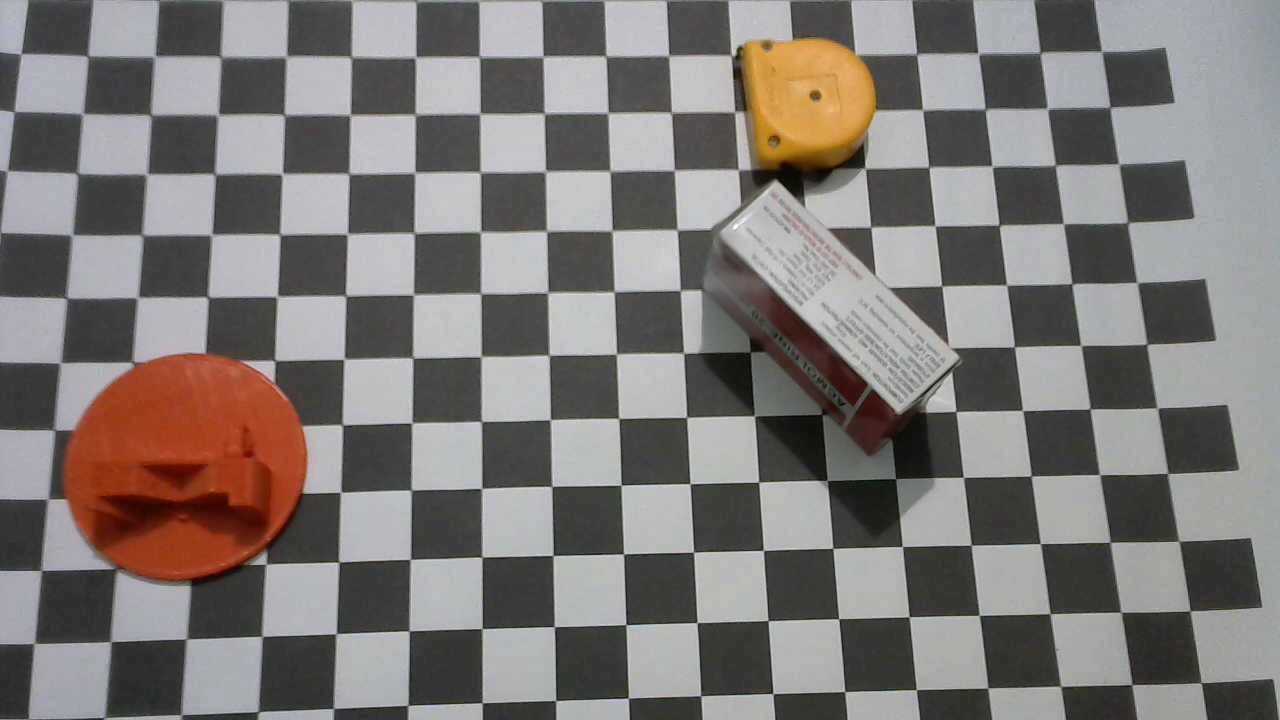blue: (731, 38, 877, 175)
green: (65, 352, 311, 589)
red: (693, 182, 966, 455)
